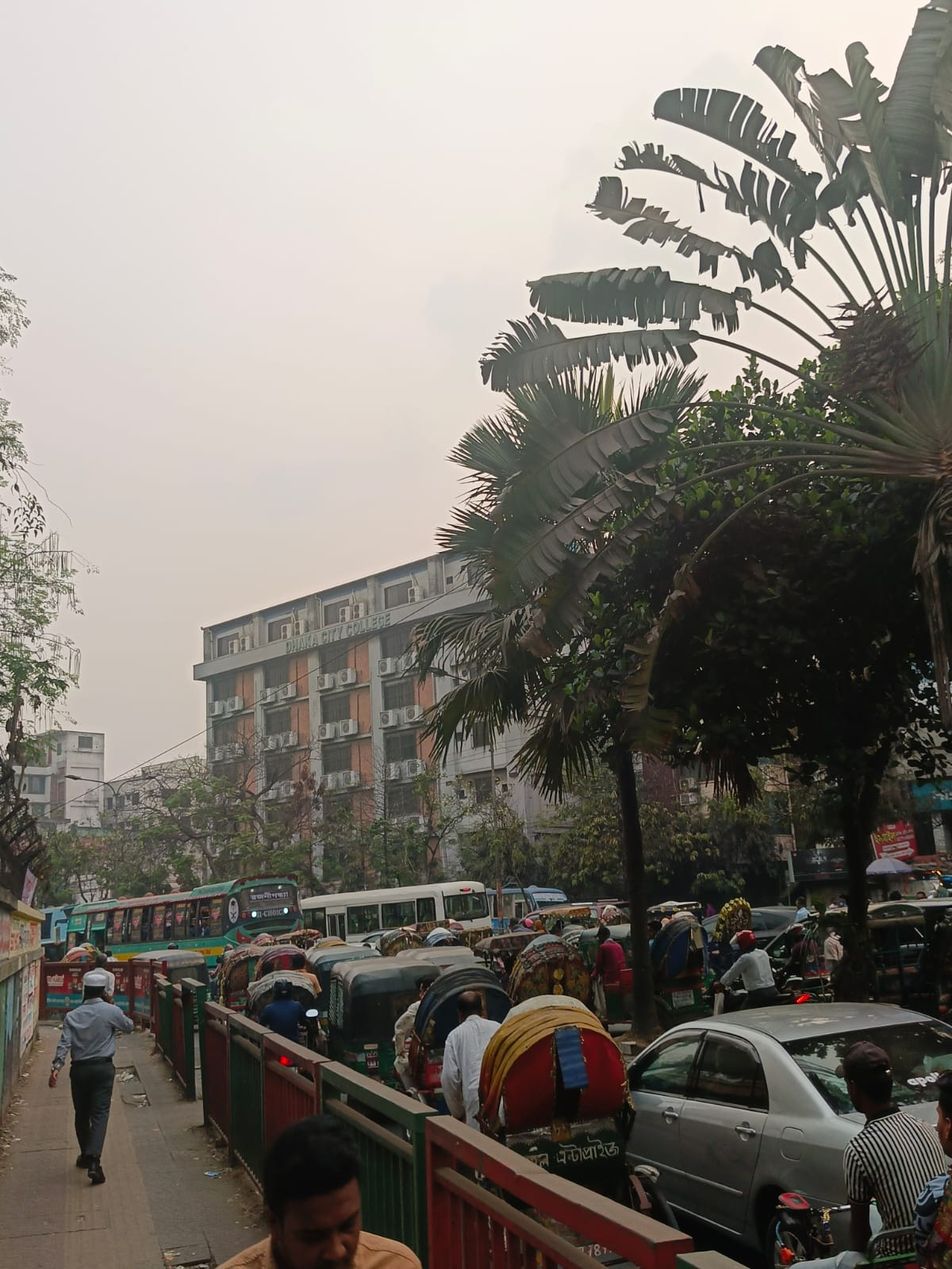Bikes: (694, 945, 807, 1011), (248, 981, 329, 1061)
Bus: (59, 798, 334, 968), (301, 888, 512, 950), (491, 878, 568, 923)
auto-ricksaw: (400, 952, 620, 1173), (638, 901, 760, 975), (219, 930, 319, 997)
cng: (320, 935, 429, 1044), (566, 918, 655, 976)
private car: (629, 981, 952, 1269), (833, 840, 952, 966)
